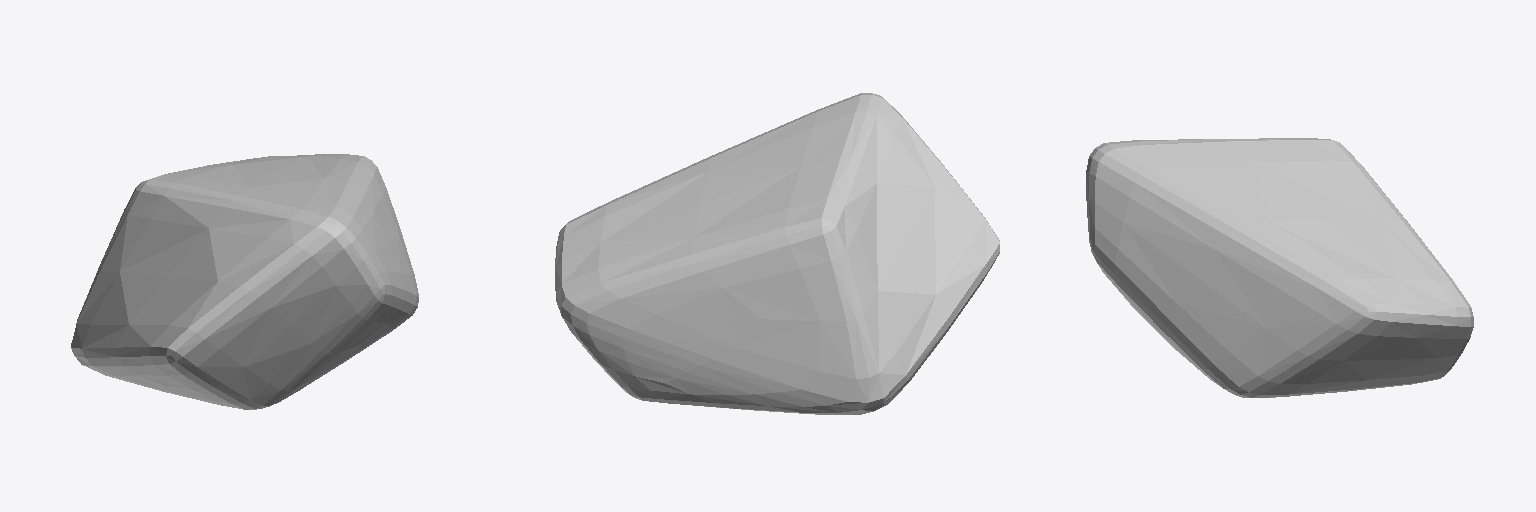
File: rock-04.obj
3 views of the same model, side by side, from view 1: azimuth 30°, elevation 25°; view 2: azimuth 150°, elevation 25°; view 3: azimuth 270°, elevation 25° (orthographic).
Visible parts, largest first — view 1: rock_04; view 2: rock_04; view 3: rock_04.
Boxes of the visible parts, x1=… form: rock_04: x1=71, y1=154, x2=418, y2=409; rock_04: x1=555, y1=93, x2=999, y2=414; rock_04: x1=1086, y1=138, x2=1473, y2=397.
Bounding box in the file's own units: 0.3141 × 0.1898 × 0.3248.